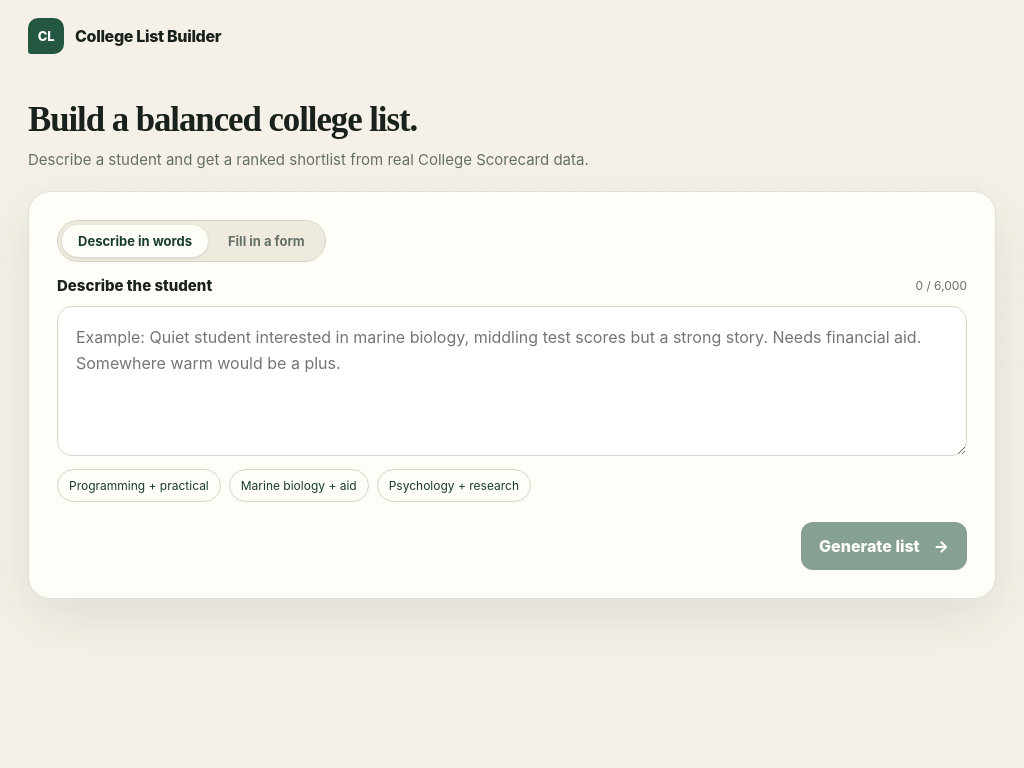
Test case: College List Builder › keeps Generate disabled until the description is long enough
Expected: the button "Generate list →" is disabled, left=801, top=522, right=967, bottom=570
Type "too short" into the text box labelled "Describe the student" at (512, 381), box left=57, top=306, right=967, bottom=456
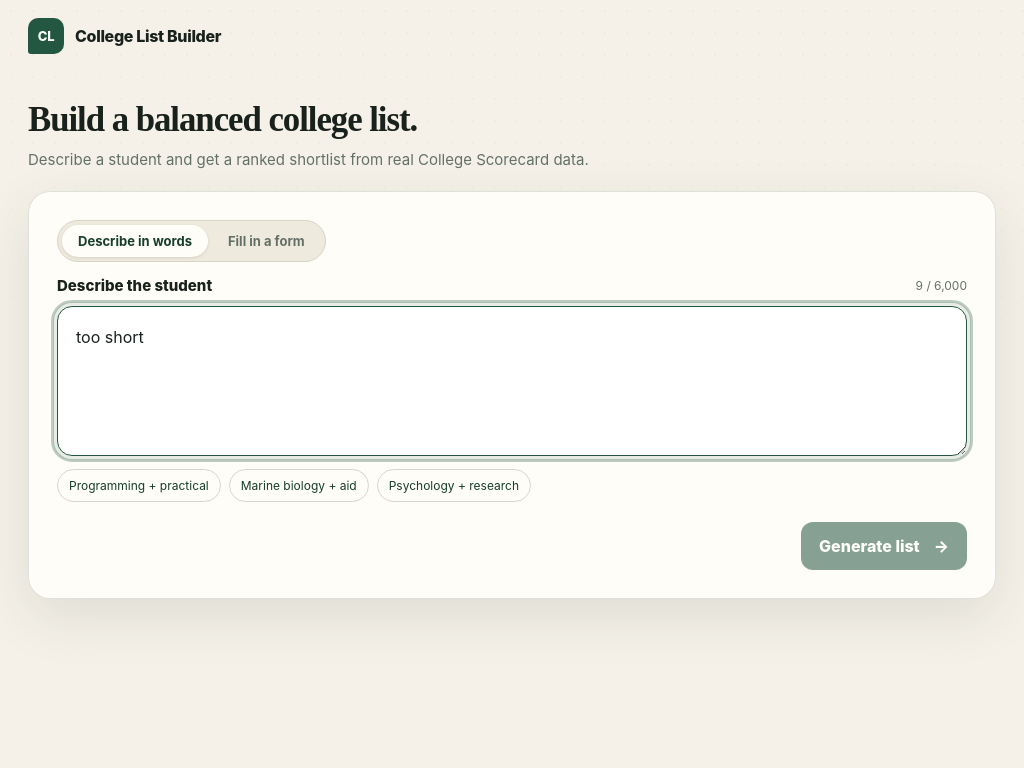
Expected: the button "Generate list →" is disabled, left=801, top=522, right=967, bottom=570
Type " but now this is plenty long" into the text box labelled "Describe the student" at (512, 381), box left=57, top=306, right=967, bottom=456
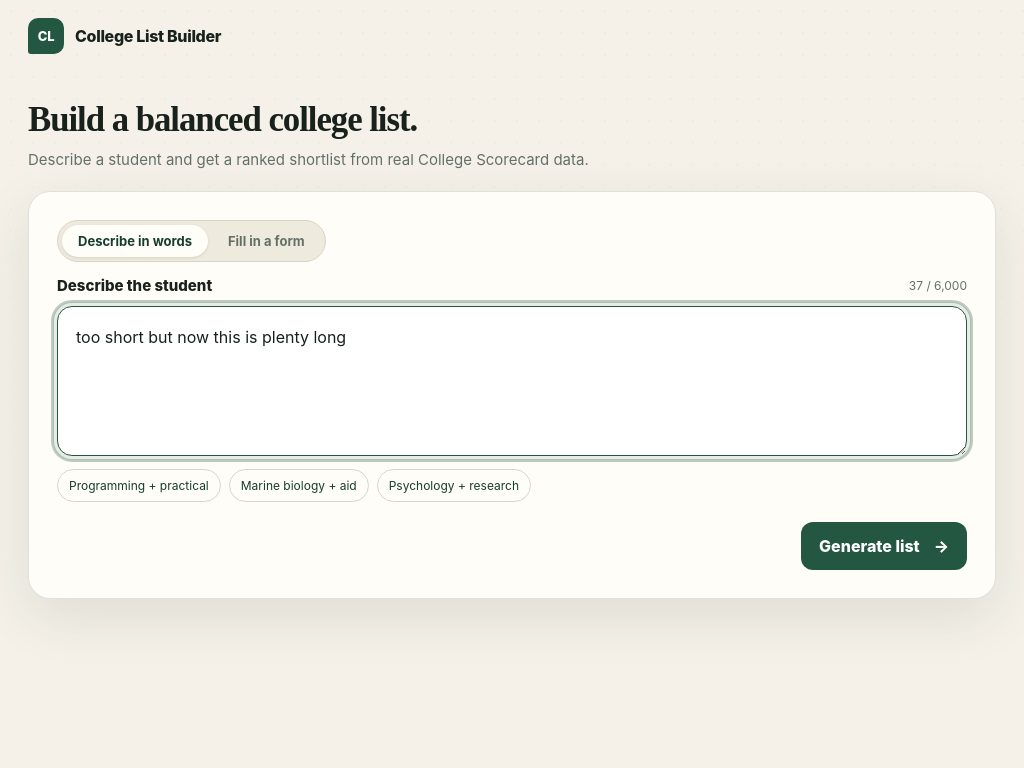
Now the button "Generate list →" is enabled, box left=801, top=522, right=967, bottom=570
